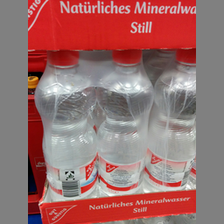water: (36, 51, 98, 195), (95, 51, 155, 195), (145, 50, 195, 190)
